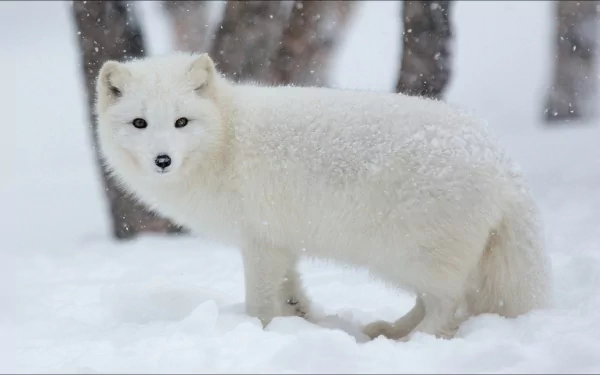arcticfox: (108, 91, 206, 180)
